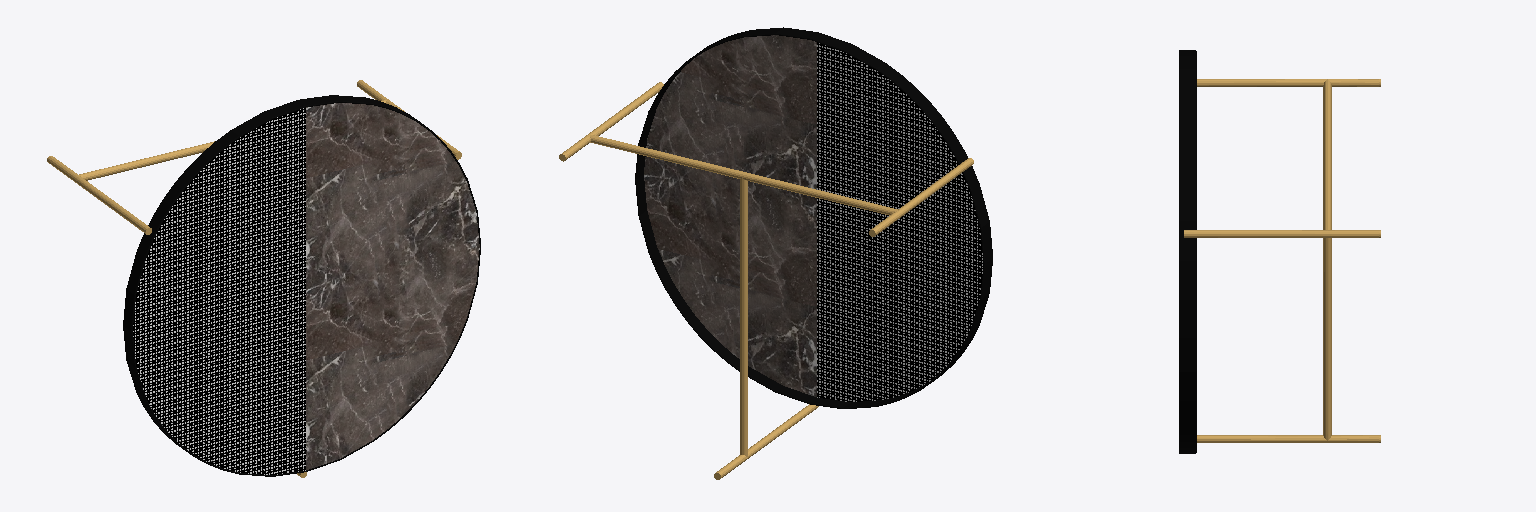
3 views of the same model, side by side, from view 1: azimuth 30°, elevation 25°; view 2: azimuth 150°, elevation 25°; view 3: azimuth 270°, elevation 25° (orthographic).
Visible parts, largest first — view 1: default; view 2: default; view 3: default.
Boxes of the visible parts, <box> form: default: <box>47,80,480,477</box>; default: <box>559,27,992,479</box>; default: <box>1179,50,1380,453</box>.
Size of the model in its own units: 800 by 816 by 400.
Materials: 4 (2 with a texture image).